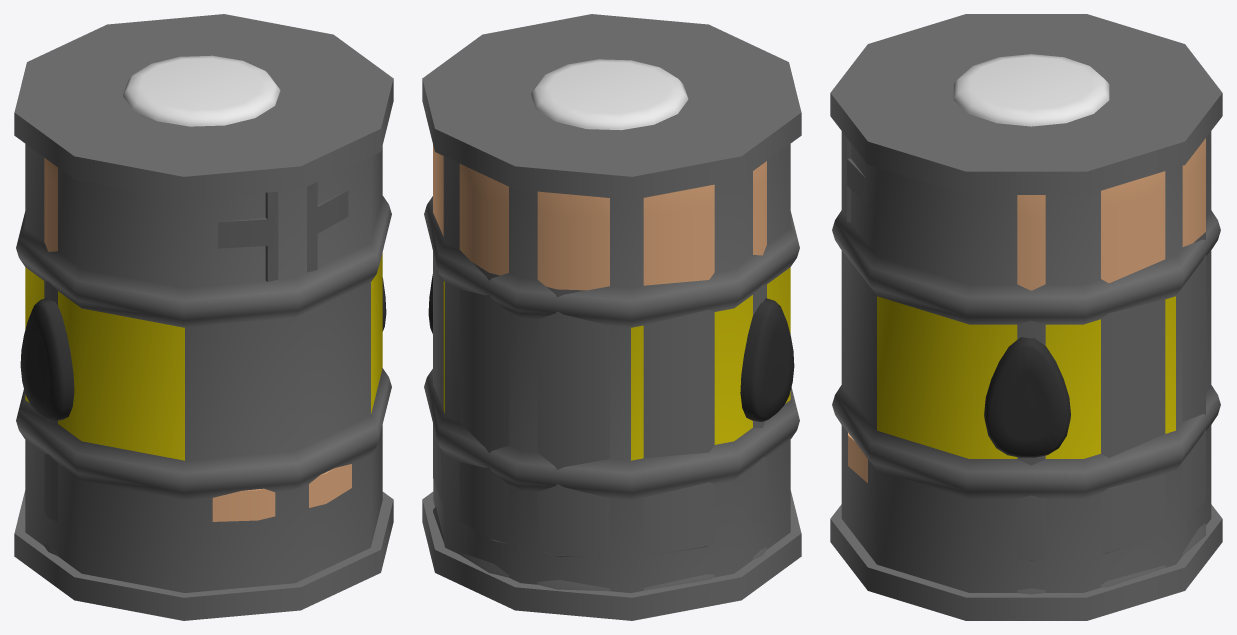
The model's file is Stackables.fbx.
The picture shows the model from 3 angles, left to right: view 1: azimuth 30°, elevation 25°; view 2: azimuth 150°, elevation 25°; view 3: azimuth 270°, elevation 25°; orthographic projection.
Parts seen in each view (by area): view 1: BarrelNew, BatteryNew; view 2: BarrelNew, BatteryNew; view 3: BarrelNew, BatteryNew.
Part boxes in pixels (x1,y1,x2,y2): BarrelNew: [14, 14, 393, 620]; BatteryNew: [44, 55, 351, 555]; BarrelNew: [422, 14, 801, 620]; BatteryNew: [433, 59, 766, 591]; BarrelNew: [830, 14, 1222, 620]; BatteryNew: [847, 54, 1205, 594].
Bounding box in the file's own units: 1.9 × 2.5 × 1.93.
